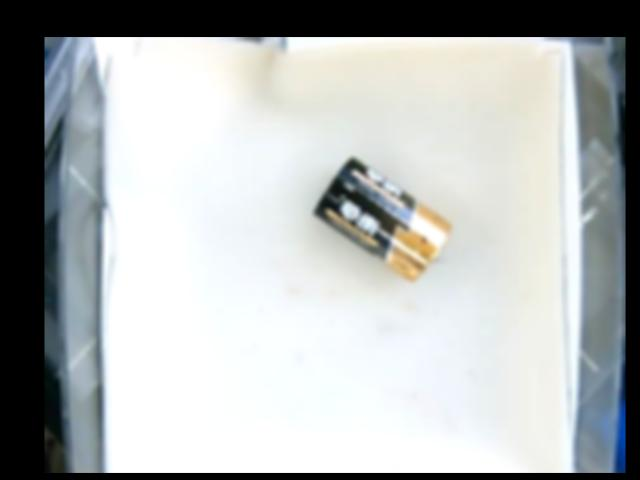Battery: (313, 157, 451, 282)
